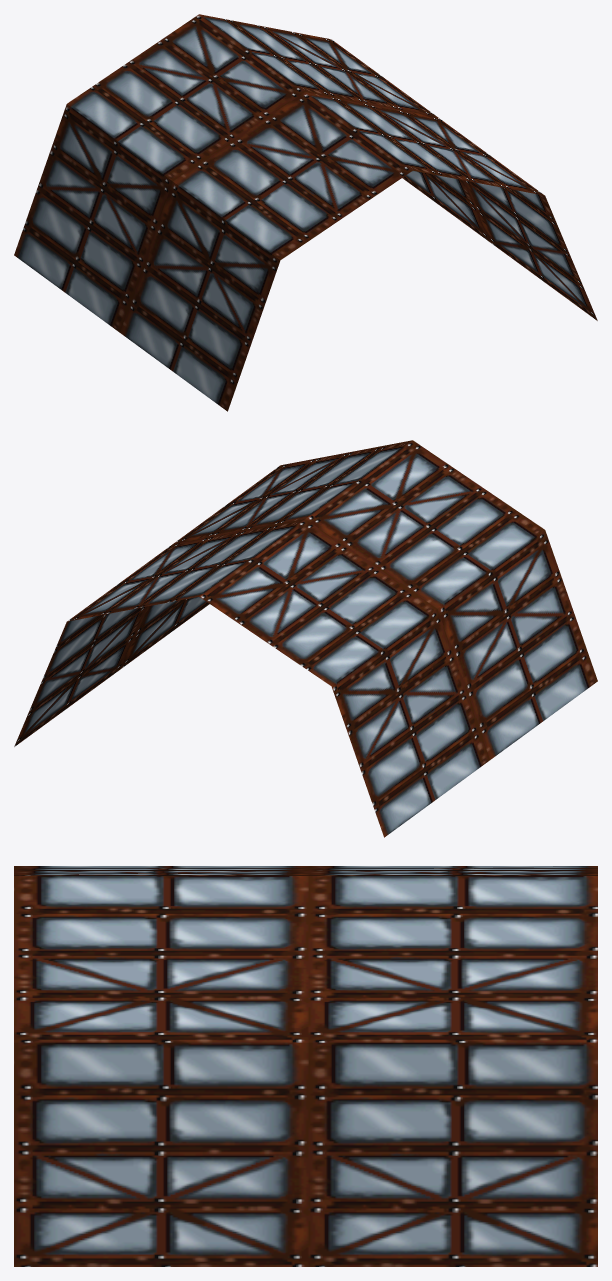
Rendered from Dach_HalbtonneGanz4 [BraunesGlas]_880.glb.
3 views of the same model, one above another, from view 1: azimuth 30°, elevation 25°; view 2: azimuth 150°, elevation 25°; view 3: azimuth 270°, elevation 25° (orthographic). The views are drawn at different scales.
Visible parts, largest first — view 1: pCylinderShape1; view 2: pCylinderShape1; view 3: pCylinderShape1.
Boxes of the visible parts, bbox=[...] form: pCylinderShape1: bbox=[14, 14, 597, 411]; pCylinderShape1: bbox=[14, 440, 597, 837]; pCylinderShape1: bbox=[14, 866, 597, 1266].
Size of the model in its own units: 1 by 0.5056 by 1.
1 material, 1 textured.
